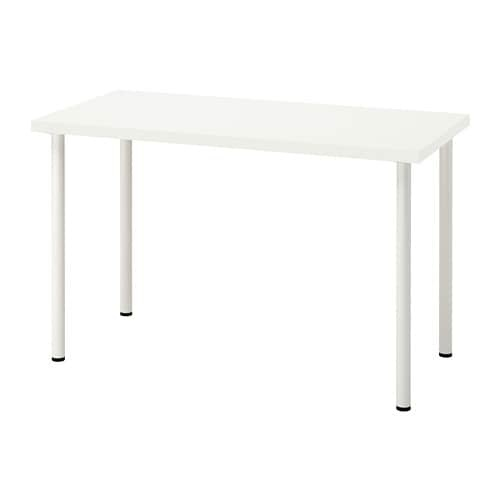obstacle: (32, 92, 468, 410)
